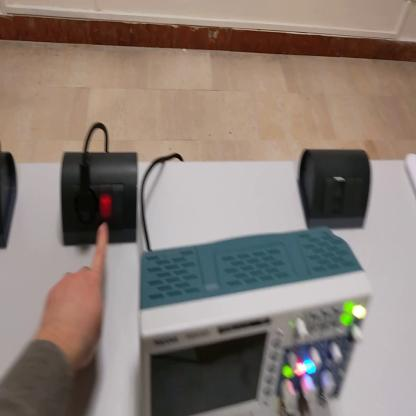hand: (41, 225, 108, 368)
oscilloscope: (140, 227, 372, 414)
socket: (61, 152, 139, 250), (3, 150, 20, 249)
